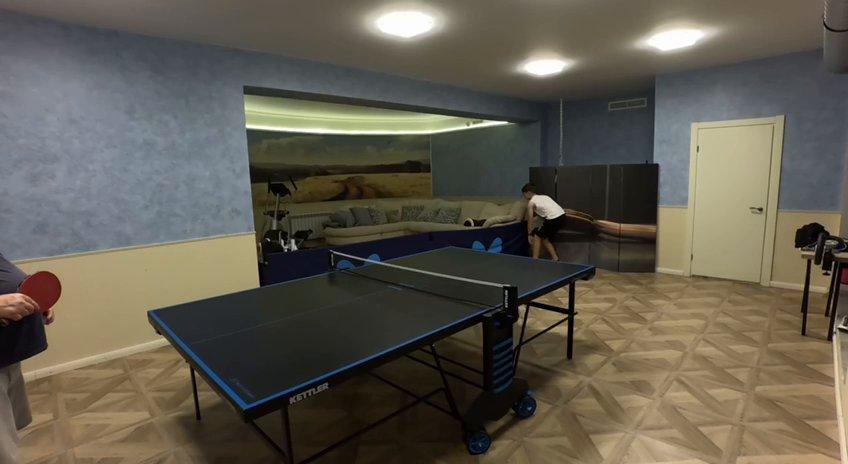Net: (327, 251, 515, 308)
Player1: (523, 184, 564, 260)
Player2: (0, 252, 52, 456)
Table: (149, 247, 594, 409)
